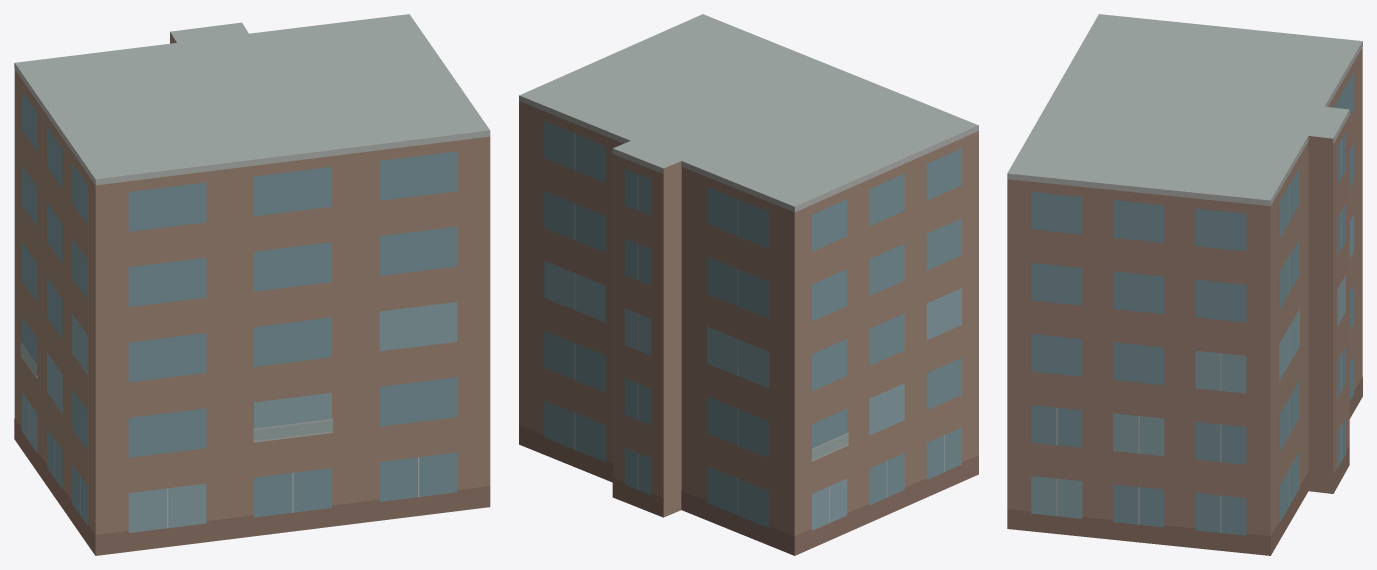
The model's file is survey-upis-33004189.glb.
3 renders of one model, left to right at view 1: azimuth 30°, elevation 25°; view 2: azimuth 150°, elevation 25°; view 3: azimuth 270°, elevation 25°, orthographic. The views are drawn at different scales.
Parts seen in each view (by area): view 1: survey-upis-33004189.tmp; view 2: survey-upis-33004189.tmp; view 3: survey-upis-33004189.tmp.
Part boxes in pixels (bbox=[...]): survey-upis-33004189.tmp: bbox=[14, 14, 490, 555]; survey-upis-33004189.tmp: bbox=[519, 14, 978, 555]; survey-upis-33004189.tmp: bbox=[1007, 14, 1362, 555].
Size of the model in its own units: 17.17 by 15.25 by 13.84.
